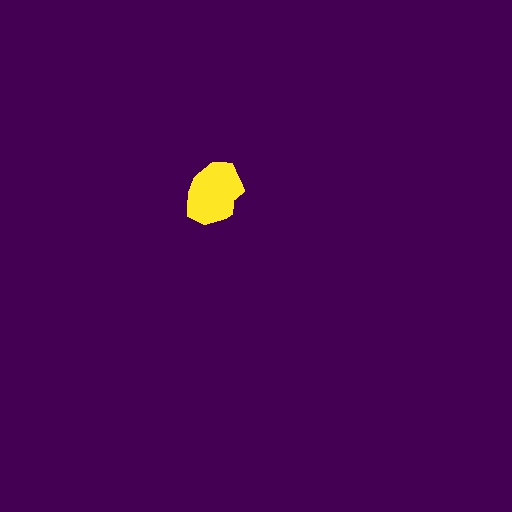Gliomia_tumour: (187, 162, 245, 225)
